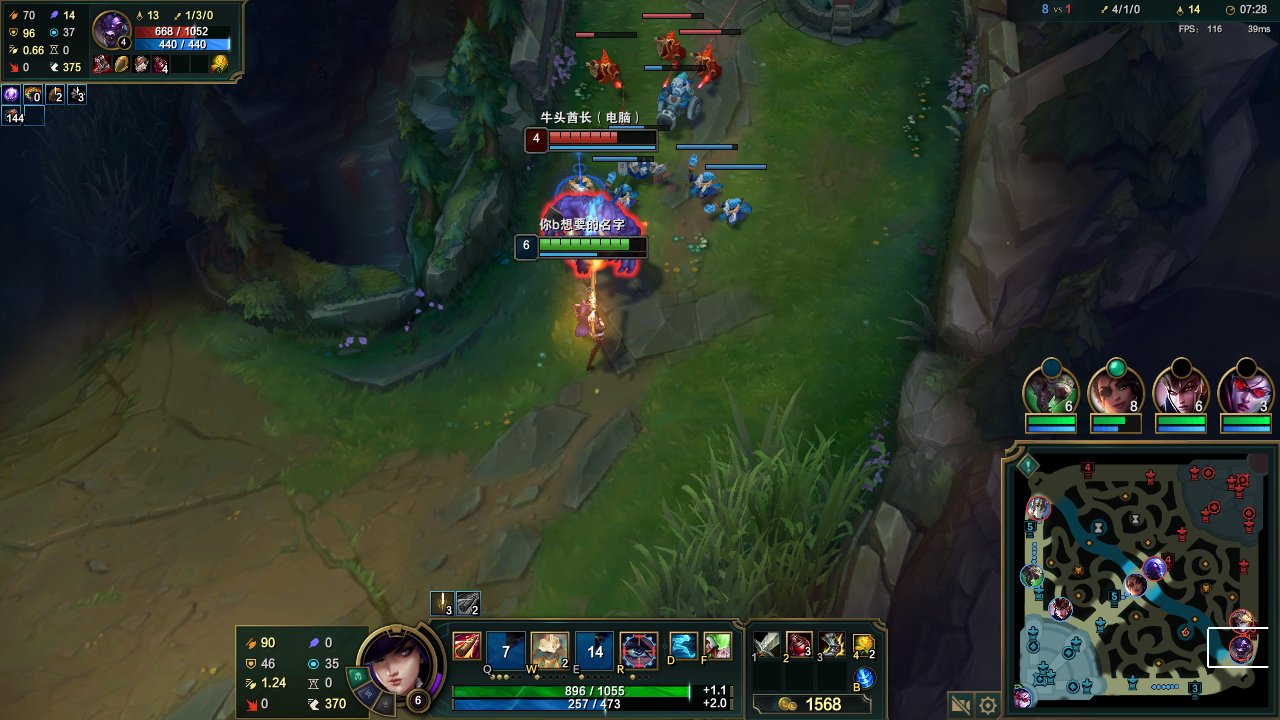DFXB: (690, 46, 722, 81), (592, 56, 618, 86), (655, 43, 681, 64)
DFYX: (543, 129, 641, 145)
WFXB: (657, 79, 705, 128), (711, 194, 754, 225), (627, 152, 664, 185), (693, 163, 722, 194), (609, 181, 636, 205)
